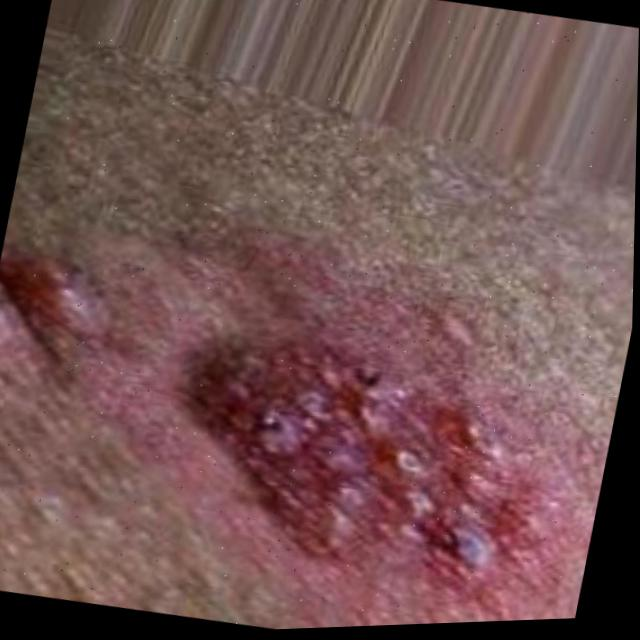Shingles: (180, 341, 538, 608)
